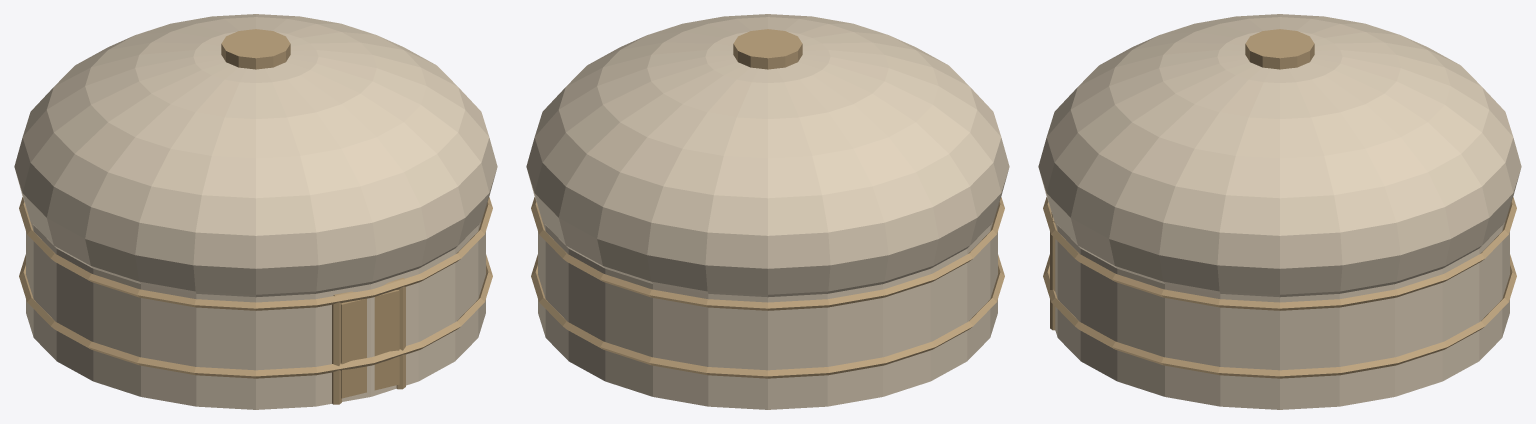
Rendered from yurt_exterior.dae.
3 renders of one model, left to right at view 1: azimuth 30°, elevation 25°; view 2: azimuth 150°, elevation 25°; view 3: azimuth 270°, elevation 25°, orthographic.
Visible parts, largest first — view 1: Sphere, Cylinder, Torus, Torus.001, Cube, Cylinder.001, Cylinder.002, Cylinder.003; view 2: Sphere, Cylinder, Torus, Torus.001, Cylinder.001; view 3: Sphere, Cylinder, Torus, Torus.001, Cylinder.001, Cylinder.003.
Part boxes in pixels (x1=…): Sphere: x1=14, y1=14, x2=497, y2=297; Cylinder: x1=26, y1=222, x2=485, y2=409; Torus: x1=19, y1=254, x2=492, y2=378; Torus.001: x1=19, y1=197, x2=492, y2=310; Cube: x1=341, y1=290, x2=399, y2=398; Cylinder.001: x1=221, y1=29, x2=290, y2=69; Cylinder.002: x1=332, y1=302, x2=341, y2=404; Cylinder.003: x1=396, y1=286, x2=405, y2=389; Sphere: x1=526, y1=14, x2=1009, y2=297; Cylinder: x1=538, y1=222, x2=997, y2=409; Torus: x1=531, y1=254, x2=1004, y2=378; Torus.001: x1=531, y1=197, x2=1004, y2=310; Cylinder.001: x1=733, y1=29, x2=802, y2=69; Sphere: x1=1038, y1=14, x2=1521, y2=297; Cylinder: x1=1055, y1=222, x2=1509, y2=409; Torus: x1=1043, y1=254, x2=1516, y2=378; Torus.001: x1=1043, y1=197, x2=1516, y2=310; Cylinder.001: x1=1245, y1=29, x2=1314, y2=69; Cylinder.003: x1=1050, y1=232, x2=1055, y2=330.
Bounding box in the file's own units: 420 × 420 × 258.
